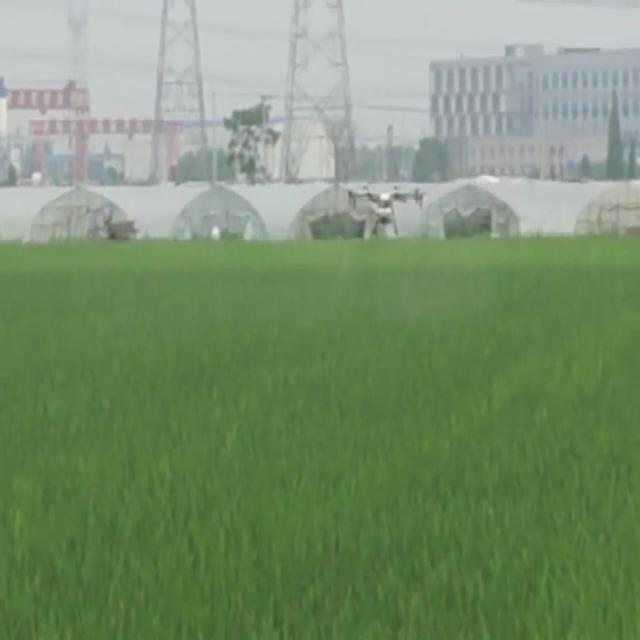drone: (343, 179, 427, 241)
